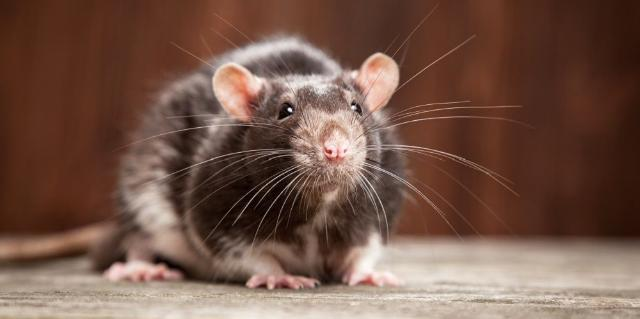rat: (69, 21, 448, 300)
